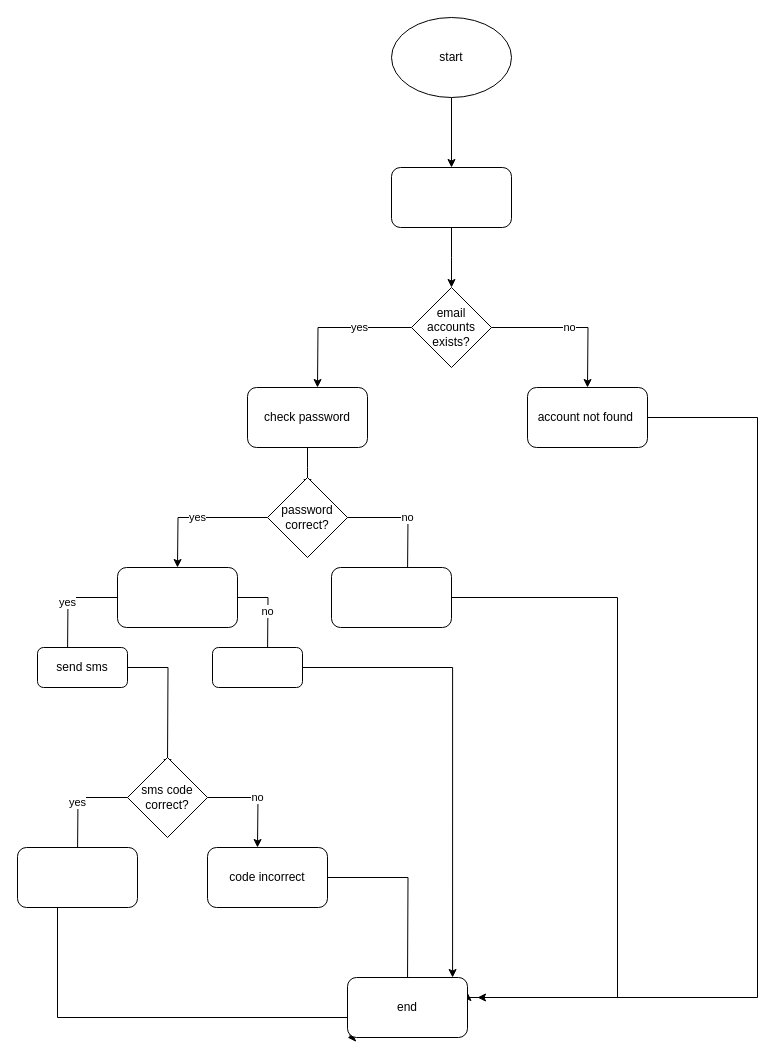
This 783x1063 diagram has some shape labels left out. Here are the shapes that lost their labels. From the top down, the centre of each, then its label:
At [451,197]: "enter gmail and password".
At [177,597]: "two-step verification enabled?".
At [391,597]: "password incorrect".
At [257,667]: "dont send sms code".
At [77,877]: "login successful".
